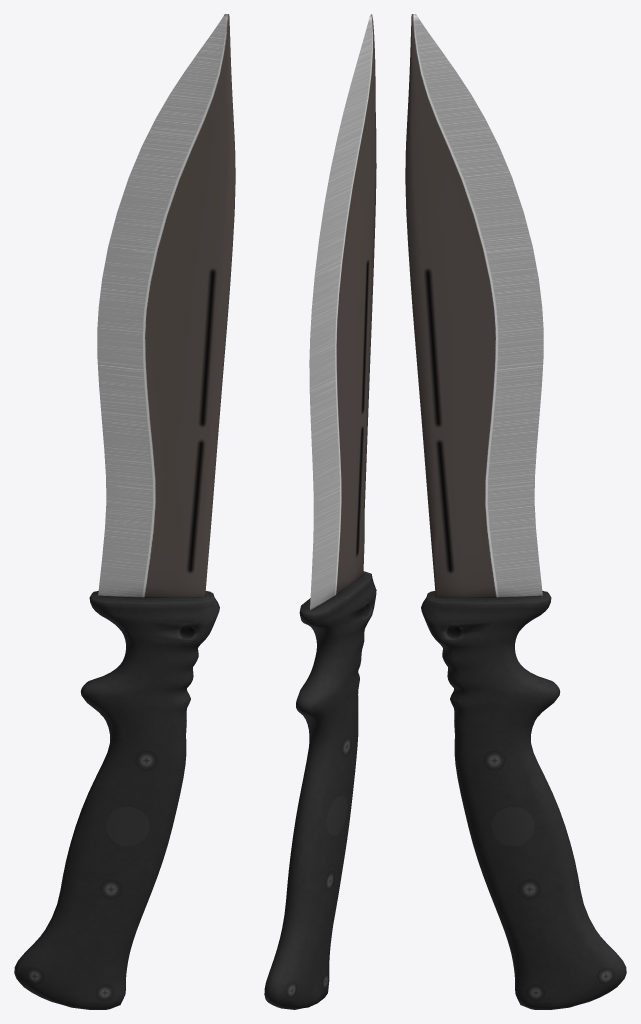
3 renders of one model, left to right at view 1: azimuth 90°, elevation 25°; view 2: azimuth 150°, elevation 25°; view 3: azimuth 270°, elevation 25°, orthographic. The views are drawn at different scales.
Visible parts, largest first — view 1: New knife handle_0; view 2: New knife handle_0; view 3: New knife handle_0.
Boxes of the visible parts, x1,y1,x2,y2 form: New knife handle_0: [14, 14, 235, 1009]; New knife handle_0: [264, 14, 376, 1009]; New knife handle_0: [405, 14, 626, 1009].
Bounding box in the file's own units: 0.0136 × 0.4092 × 0.0828.
1 material, 1 textured.
